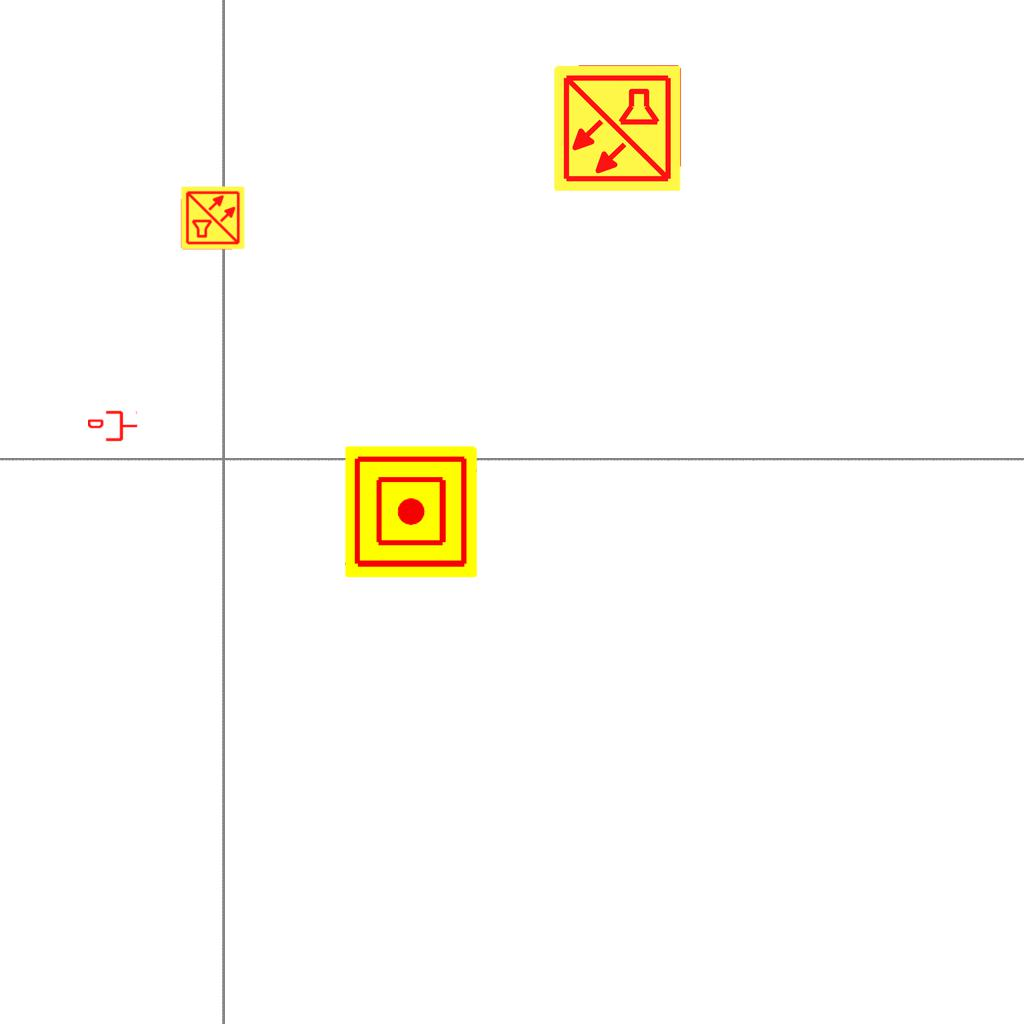Datenanschluss_einfach: (88, 409, 138, 443)
NAM-Nichtautomatischer_Melder: (345, 446, 477, 578)
OKW_Multisensormelder_(Kombination_optischer_Rauch-Kahlenmonoxid_Waerme-Melder): (551, 62, 683, 194), (180, 185, 246, 251)
